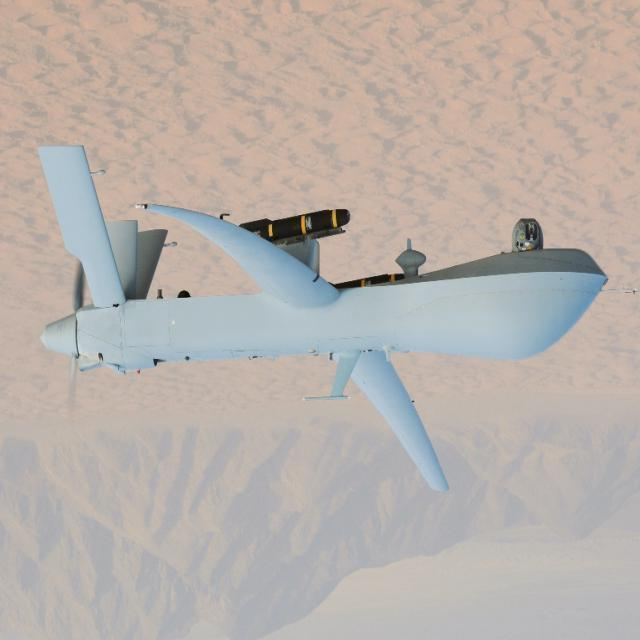missile: (233, 208, 358, 238)
